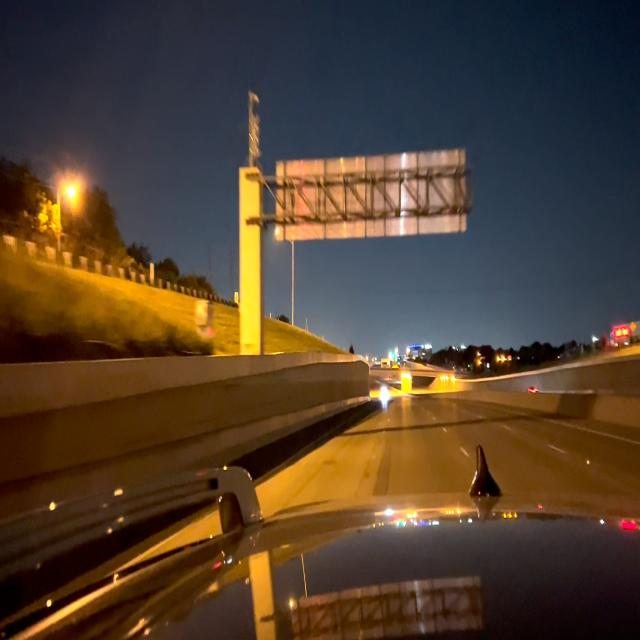back-of-sign: (279, 150, 468, 233)
